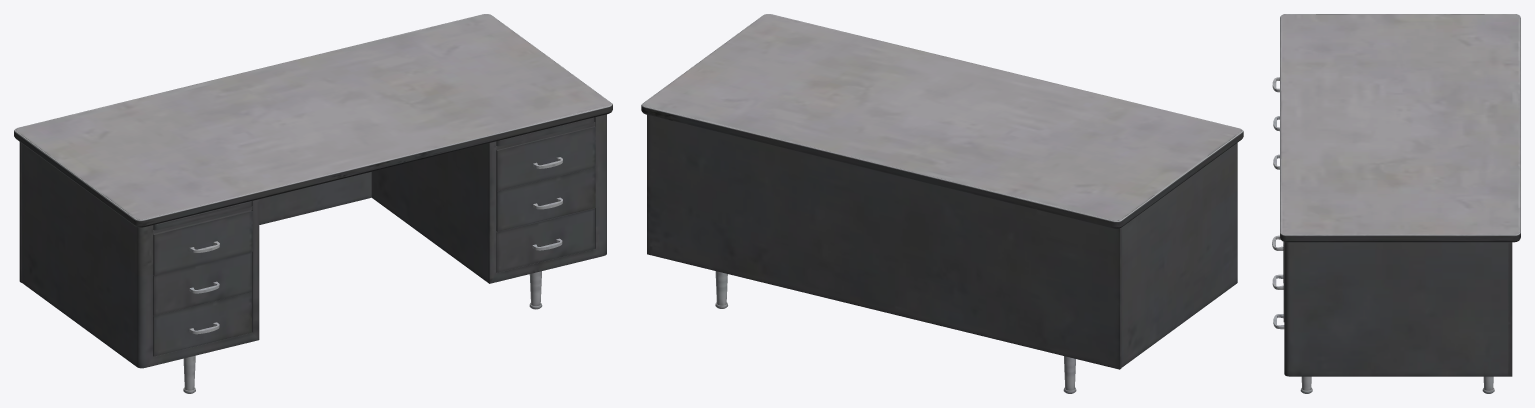
The model's file is metal_office_desk.glb.
3 renders of one model, left to right at view 1: azimuth 30°, elevation 25°; view 2: azimuth 150°, elevation 25°; view 3: azimuth 270°, elevation 25°, orthographic. The views are drawn at different scales.
Parts seen in each view (by area): view 1: metal_office_desk, metal_office_desk_drawer_04, metal_office_desk_drawer_01, metal_office_desk_drawer_02, metal_office_desk_drawer_03, metal_office_desk_drawer_06, metal_office_desk_drawer_05, metal_office_desk_tray_01, metal_office_desk_tray_02; view 2: metal_office_desk; view 3: metal_office_desk.
Boxes of the visible parts, x1,y1,x2,y2 form: metal_office_desk: (14,14,612,393); metal_office_desk_drawer_04: (153,210,252,275); metal_office_desk_drawer_01: (496,126,595,191); metal_office_desk_drawer_02: (496,167,595,231); metal_office_desk_drawer_03: (496,208,594,272); metal_office_desk_drawer_06: (153,292,251,356); metal_office_desk_drawer_05: (153,252,251,315); metal_office_desk_tray_01: (153,201,251,230); metal_office_desk_tray_02: (496,117,594,146); metal_office_desk: (641,14,1243,393); metal_office_desk: (1280,14,1520,393).
Bounding box in the file's own units: 2 × 0.7874 × 0.9472.
Materials: 1 (1 with a texture image).
